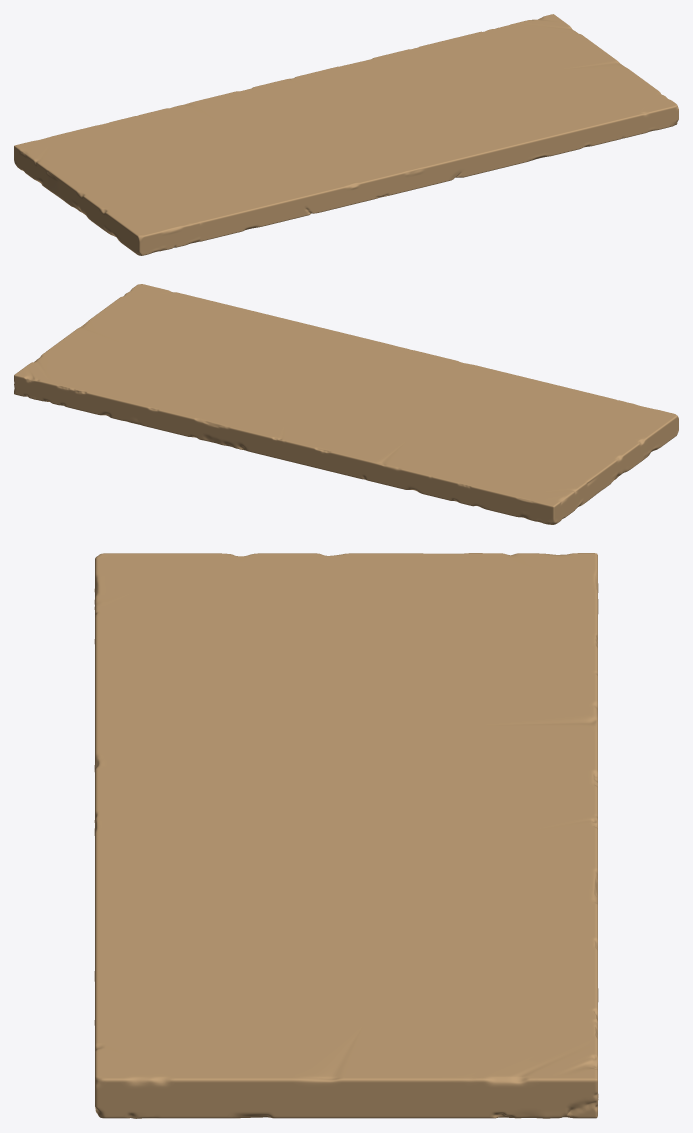
File: misc_boards_wooden_a01.glb
3 renders of one model, top to bottom at view 1: azimuth 30°, elevation 25°; view 2: azimuth 150°, elevation 25°; view 3: azimuth 270°, elevation 25°, orthographic. The views are drawn at different scales.
Bounding box in the file's own units: 0.5765 × 0.0206 × 0.2327.
